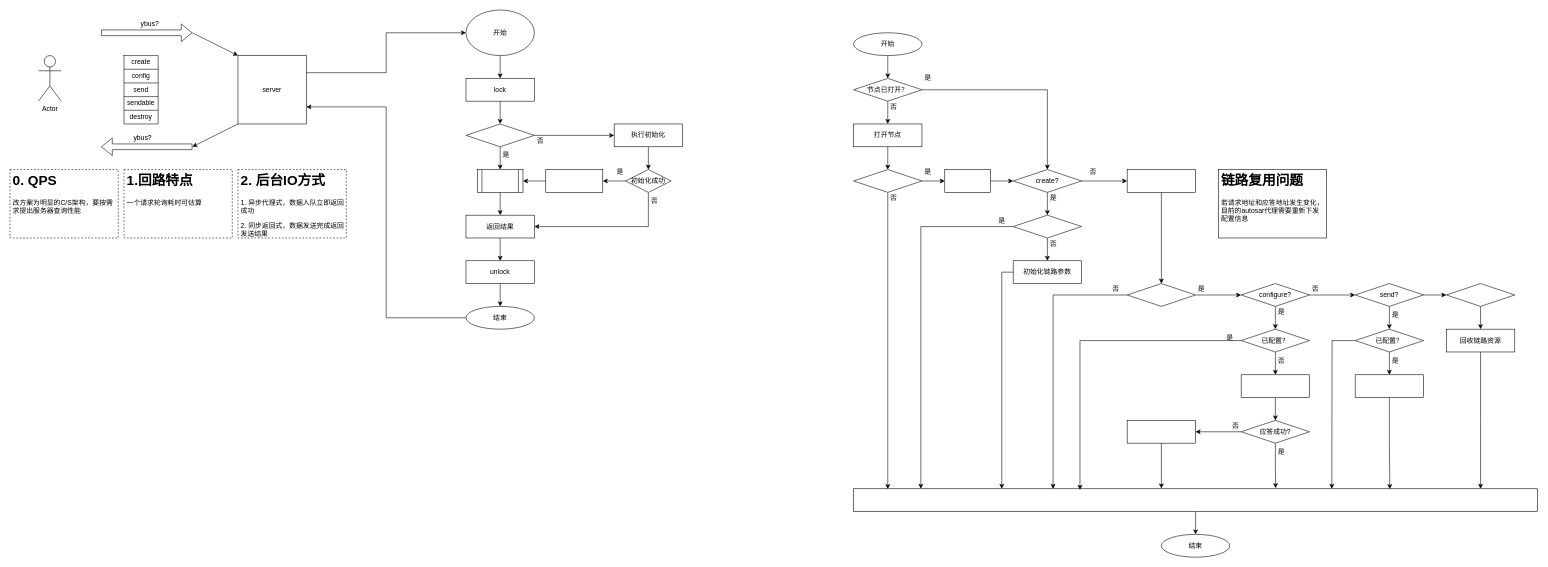
The diagram is 1548 pixels wide and 567 high, and some of its shapes have lost their labels. Here are the shapes that lost their labels. From the top down, the centre of each, then its label:
At point (499, 135): "初始化完？".
At point (500, 180): "执行服务".
At point (574, 180): "设置初始化完标识".
At point (887, 180): "打开成功？".
At point (967, 180): "初始化环境".
At point (1161, 180): "查询链路".
At point (1047, 226): "超限制？".
At point (1161, 294): "存在？".
At point (1480, 294): "destroy ?".
At point (1275, 386): "给MCU下发链路参数".
At point (1389, 386): "添加到发送队列".
At point (1161, 431): "设定 链路资源回收计划".
At point (1195, 500): "设置错误码".
